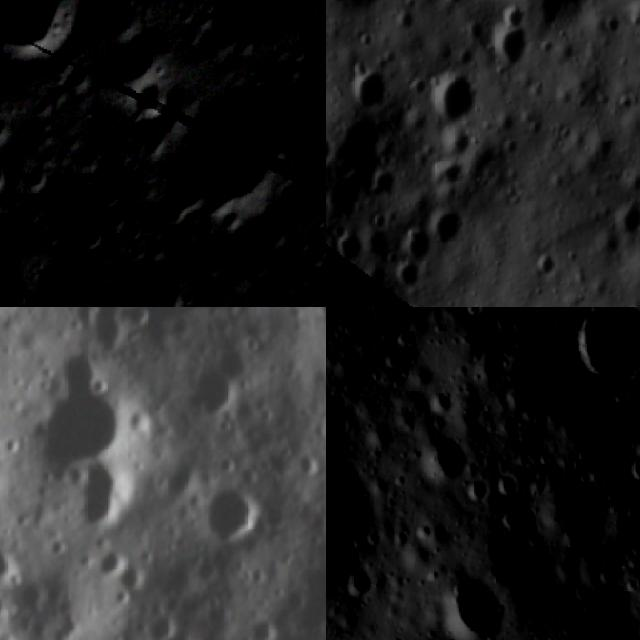crater: (147, 62, 321, 250), (10, 369, 144, 478), (87, 2, 185, 107), (0, 0, 115, 86), (326, 398, 374, 575), (58, 449, 159, 533), (192, 472, 274, 549), (573, 307, 640, 399), (118, 64, 188, 137), (443, 571, 511, 640), (123, 263, 201, 307), (15, 142, 70, 204), (50, 342, 110, 396), (62, 129, 116, 184), (498, 498, 543, 554), (428, 72, 472, 128), (422, 436, 470, 482), (88, 539, 135, 585), (0, 136, 24, 219), (113, 550, 156, 594), (69, 214, 111, 259), (498, 7, 528, 70), (340, 560, 381, 605), (88, 175, 130, 218), (352, 59, 387, 110), (136, 602, 180, 640), (35, 220, 74, 258), (238, 608, 283, 640), (431, 207, 463, 247), (0, 536, 26, 584), (330, 223, 361, 263), (619, 443, 640, 488), (455, 478, 491, 504), (194, 290, 247, 307), (394, 260, 423, 291), (613, 203, 640, 236), (491, 472, 514, 505), (406, 225, 428, 258), (604, 10, 622, 42), (540, 249, 556, 282), (302, 307, 313, 320)
